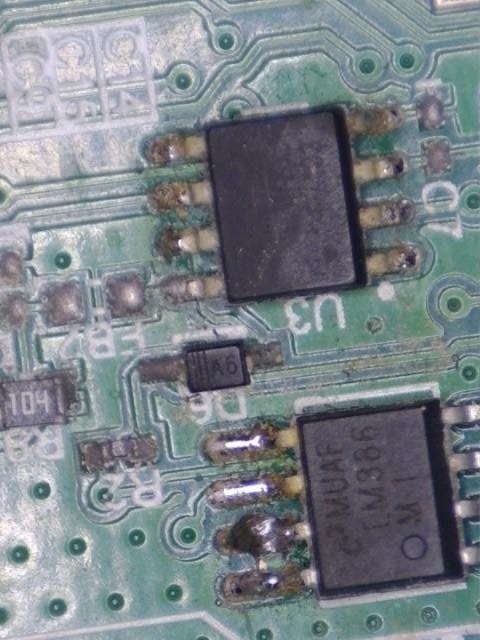pcb_defect: (0, 369, 79, 429)
